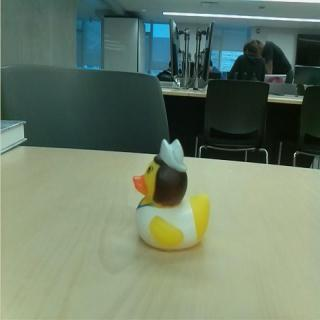duck_specialty: (132, 137, 212, 253)
